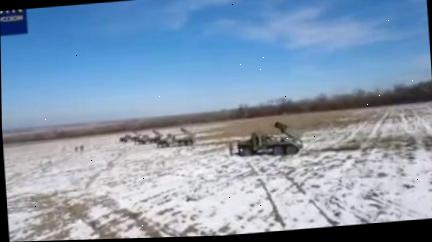person: (73, 145, 79, 156), (79, 144, 84, 154)
rszo: (235, 120, 305, 160), (158, 127, 196, 149), (137, 129, 164, 147), (117, 127, 141, 145)
